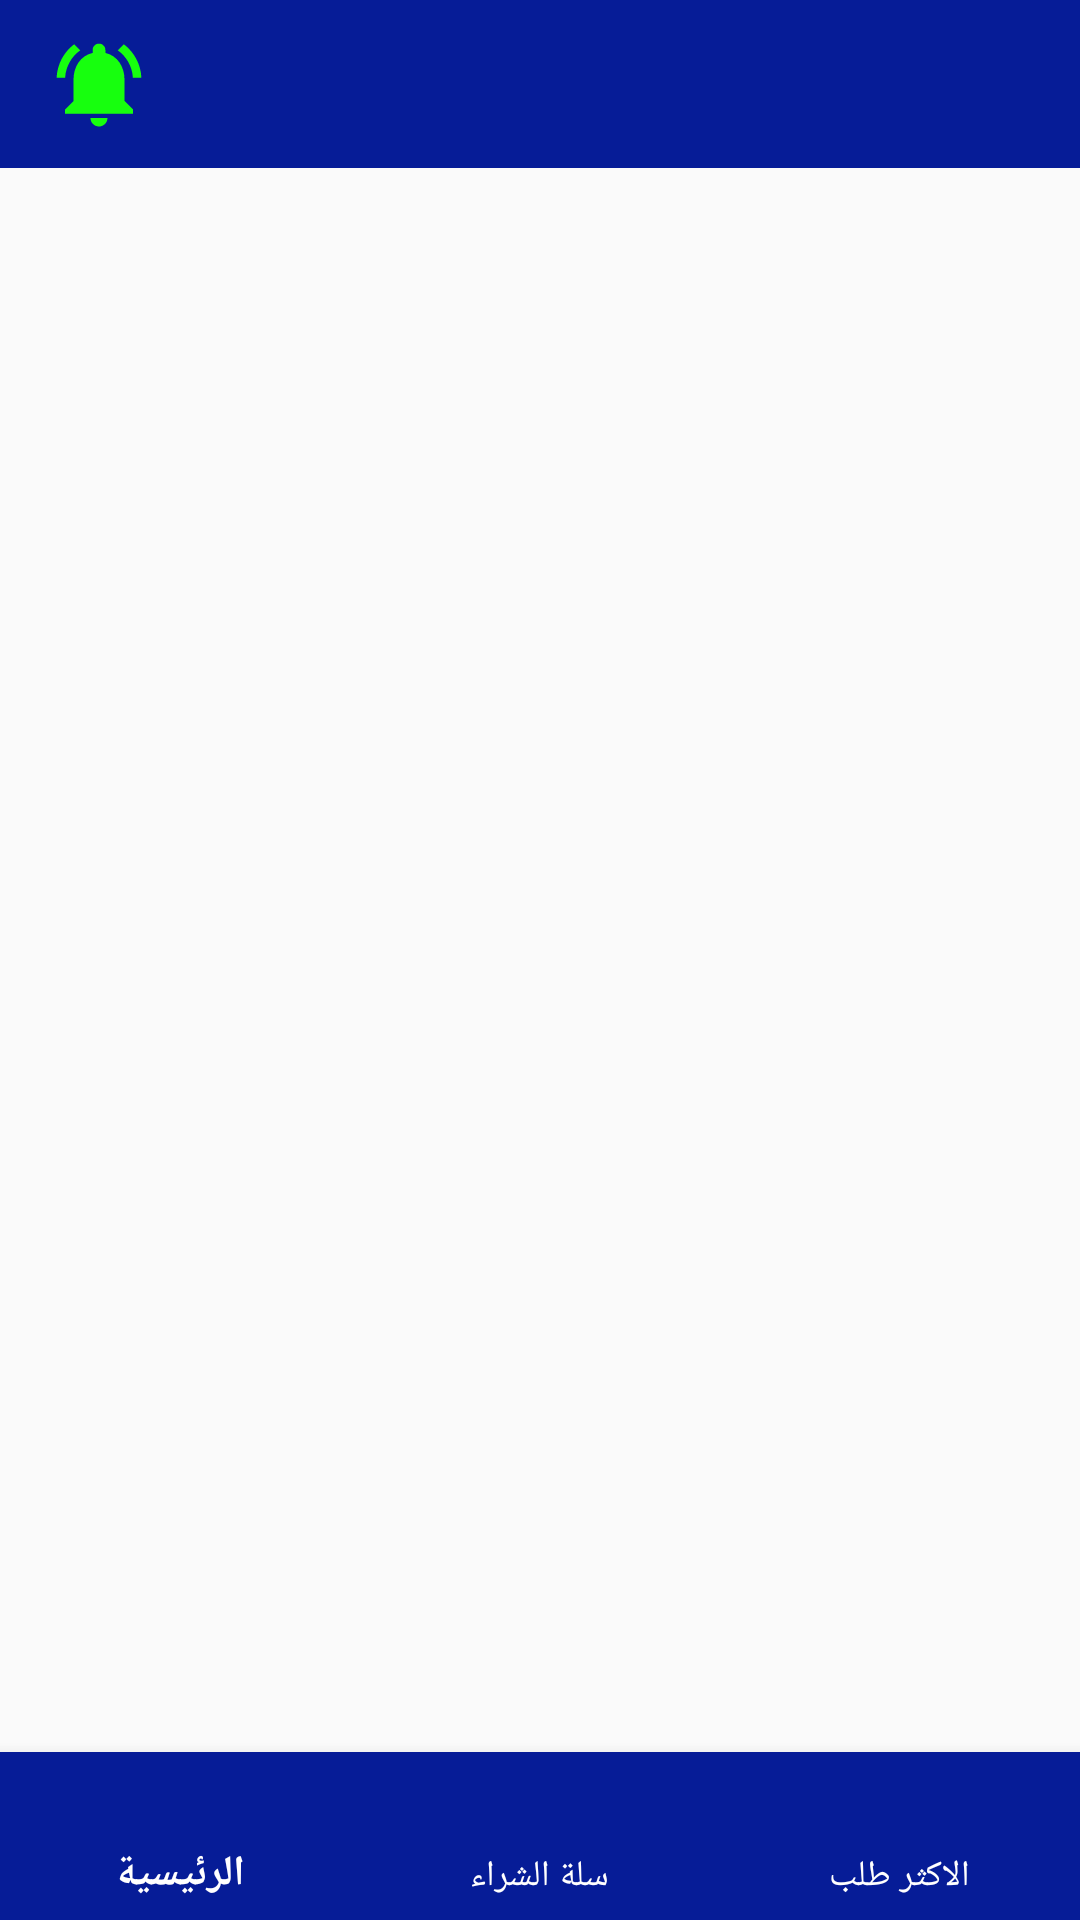

Named icons in this screenshot (1080*1920) and their bounding boxes, (x1, y1, x2, y2):
notifications: (56, 43, 142, 127)
